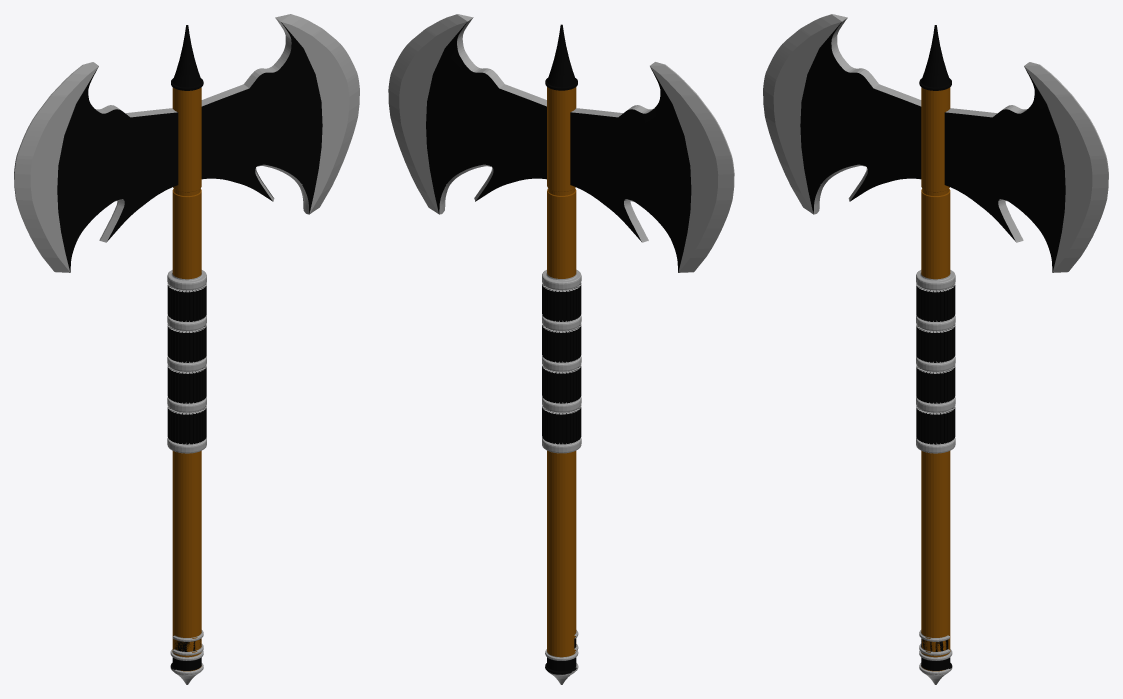
File: ASSETS.fbx_doubleAxe.fbx
The picture shows the model from 3 angles, left to right: view 1: azimuth 30°, elevation 25°; view 2: azimuth 150°, elevation 25°; view 3: azimuth 330°, elevation 25°; orthographic projection.
Parts seen in each view (by area): view 1: hachedouble; view 2: hachedouble; view 3: hachedouble.
Part boxes in pixels (x1,y1,x2,y2): hachedouble: [14, 14, 359, 684]; hachedouble: [388, 14, 734, 684]; hachedouble: [763, 14, 1108, 684].
Size of the model in its own units: 30.38 by 55.43 by 3.03.
